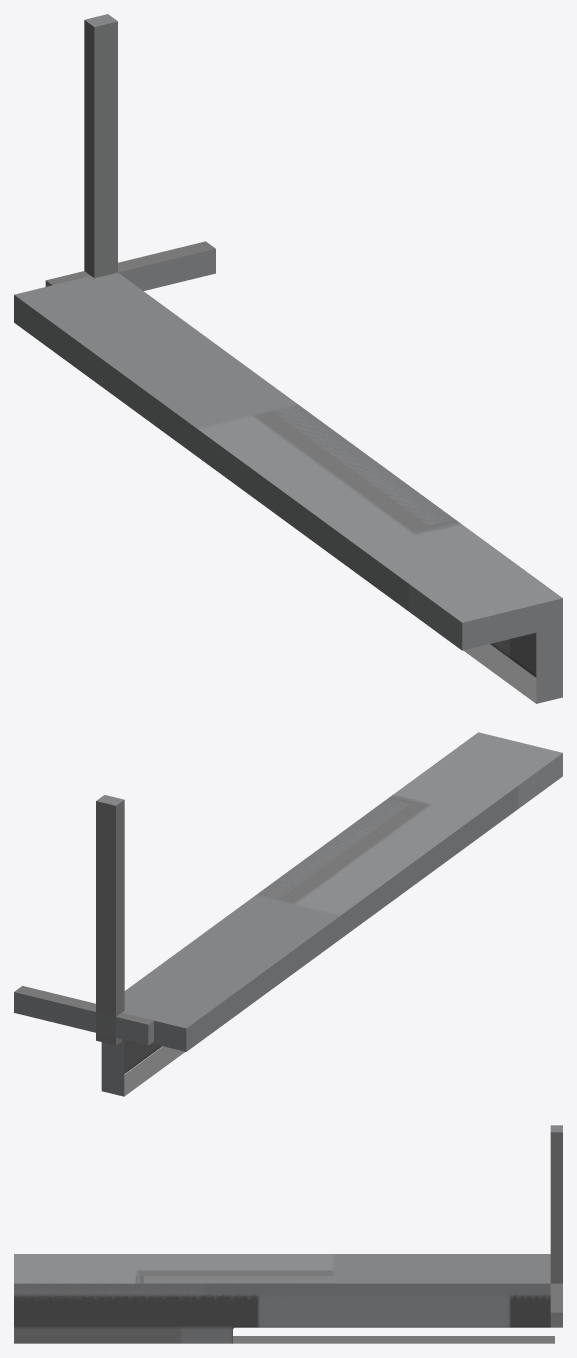
The picture shows the model from 3 angles, top to bottom: view 1: azimuth 30°, elevation 25°; view 2: azimuth 150°, elevation 25°; view 3: azimuth 270°, elevation 25°; orthographic projection. The views are drawn at different scales.
Size of the model in its own units: 0.335 by 0.565 by 1.33.
